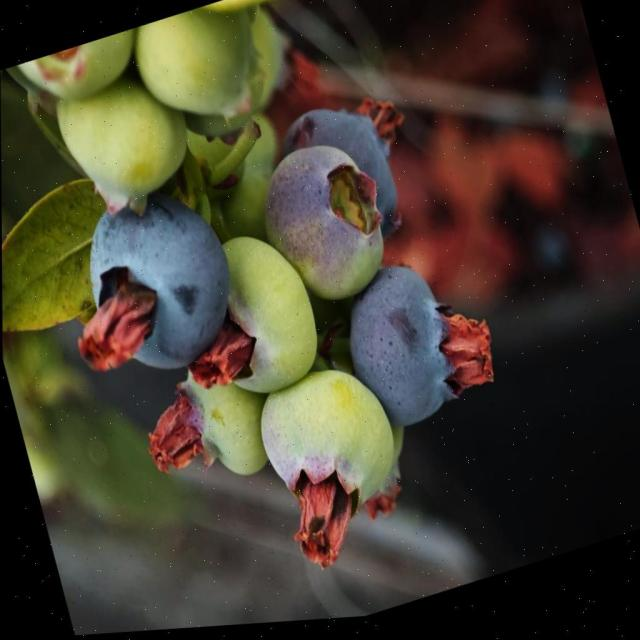RipeBlueBerry: (66, 174, 251, 396), (330, 252, 481, 448)
Semi-RipeBlueBerry: (248, 128, 403, 324)
UnripeBlueBerry: (246, 356, 414, 556), (176, 225, 328, 417), (44, 54, 199, 228), (126, 0, 270, 146)
